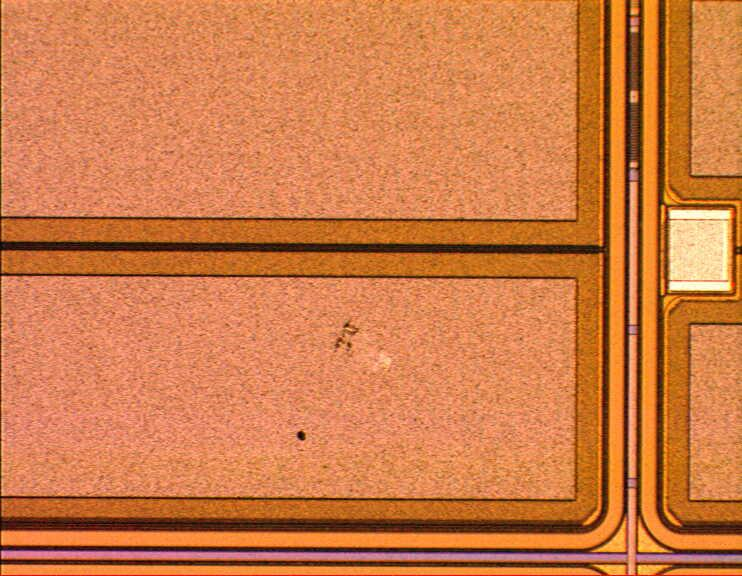SCRATCH: (320, 315, 399, 378)
